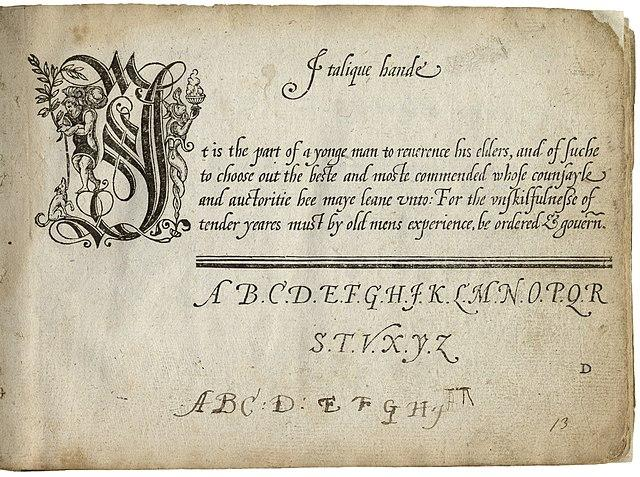text: (191, 277, 610, 319), (169, 383, 475, 432), (200, 134, 602, 167), (197, 209, 607, 241), (198, 160, 607, 192), (196, 185, 601, 215), (279, 45, 443, 102), (309, 321, 461, 367), (548, 415, 569, 433), (578, 360, 593, 376)
